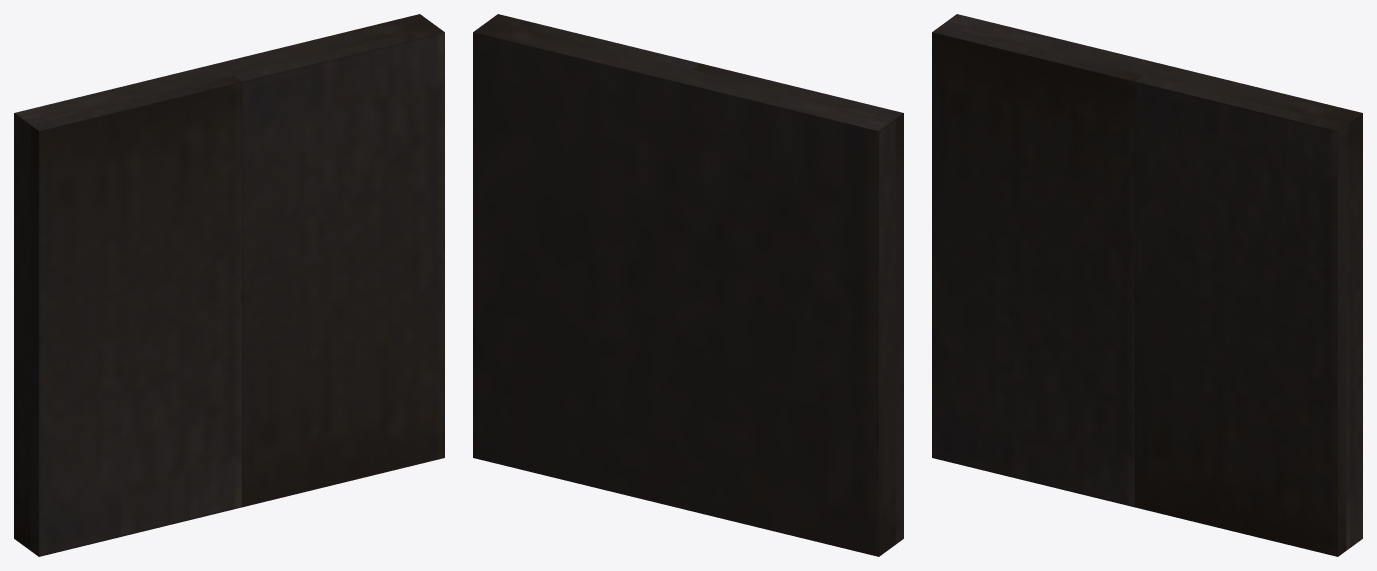
File: DartBoard02.obj
3 views of the same model, side by side, from view 1: azimuth 30°, elevation 25°; view 2: azimuth 150°, elevation 25°; view 3: azimuth 330°, elevation 25° (orthographic).
Visible parts, largest first — view 1: DartBoard02.Rht, DartBoard02.Lft, DartBoard02.Base; view 2: DartBoard02.Base, DartBoard02.Rht, DartBoard02.Lft; view 3: DartBoard02.Lft, DartBoard02.Rht, DartBoard02.Base.
Part boxes in pixels (bbox=[...]): DartBoard02.Rht: bbox=[30, 75, 241, 556]; DartBoard02.Lft: bbox=[234, 26, 444, 507]; DartBoard02.Base: bbox=[14, 14, 435, 550]; DartBoard02.Base: bbox=[473, 20, 895, 556]; DartBoard02.Rht: bbox=[693, 63, 903, 544]; DartBoard02.Lft: bbox=[490, 14, 700, 69]; DartBoard02.Lft: bbox=[1135, 75, 1346, 556]; DartBoard02.Rht: bbox=[932, 26, 1142, 507]; DartBoard02.Base: bbox=[941, 14, 1362, 550].
Size of the model in its own units: 1.59 by 1.59 by 0.1688.
